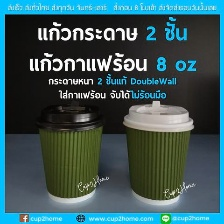paper_cup: (117, 97, 199, 208), (32, 100, 108, 208)
